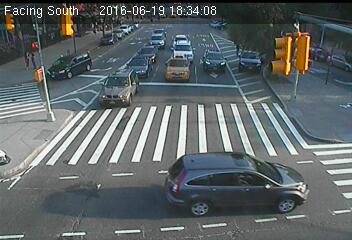neg: (259, 44, 276, 66), (325, 45, 341, 67)
pos: (19, 50, 33, 69), (27, 52, 37, 66)
